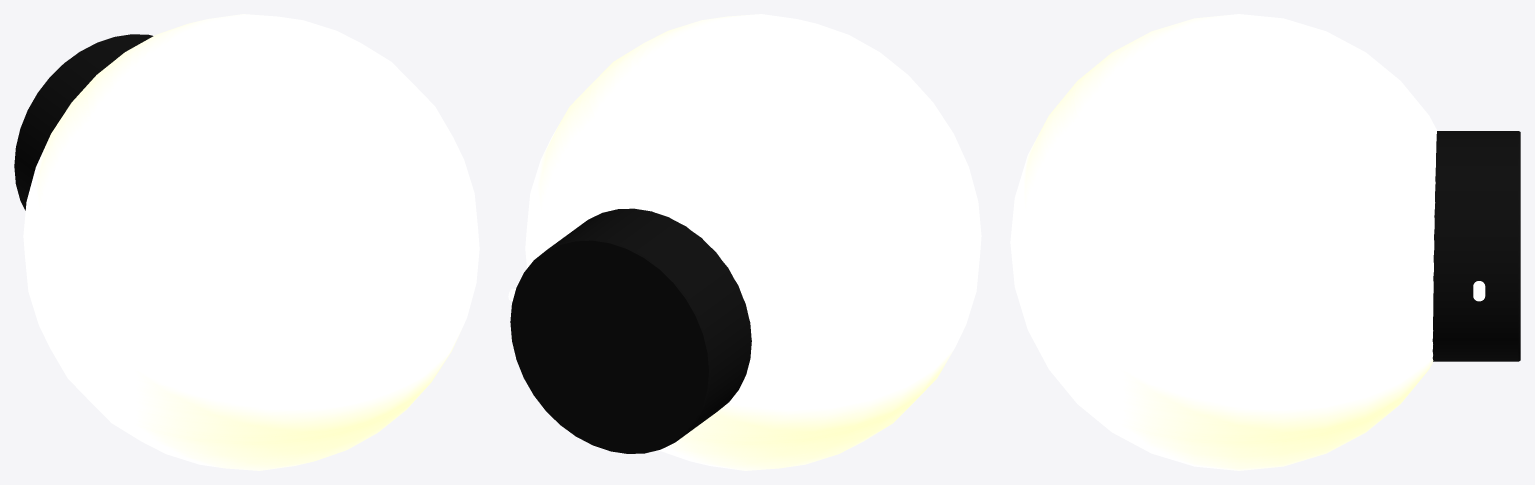
The model's file is CGT_Wall-Light_38_001.fbx.
The picture shows the model from 3 angles, left to right: view 1: azimuth 30°, elevation 25°; view 2: azimuth 150°, elevation 25°; view 3: azimuth 270°, elevation 25°; orthographic projection.
Parts seen in each view (by area): view 1: CGT_Wall-Light_38_001; view 2: CGT_Wall-Light_38_001; view 3: CGT_Wall-Light_38_001.
Boxes of the visible parts, bbox=[...] form: CGT_Wall-Light_38_001: bbox=[14, 14, 479, 470]; CGT_Wall-Light_38_001: bbox=[508, 14, 981, 470]; CGT_Wall-Light_38_001: bbox=[1010, 14, 1520, 470].
Size of the model in its own units: 17.07 by 19.04 by 17.07.
